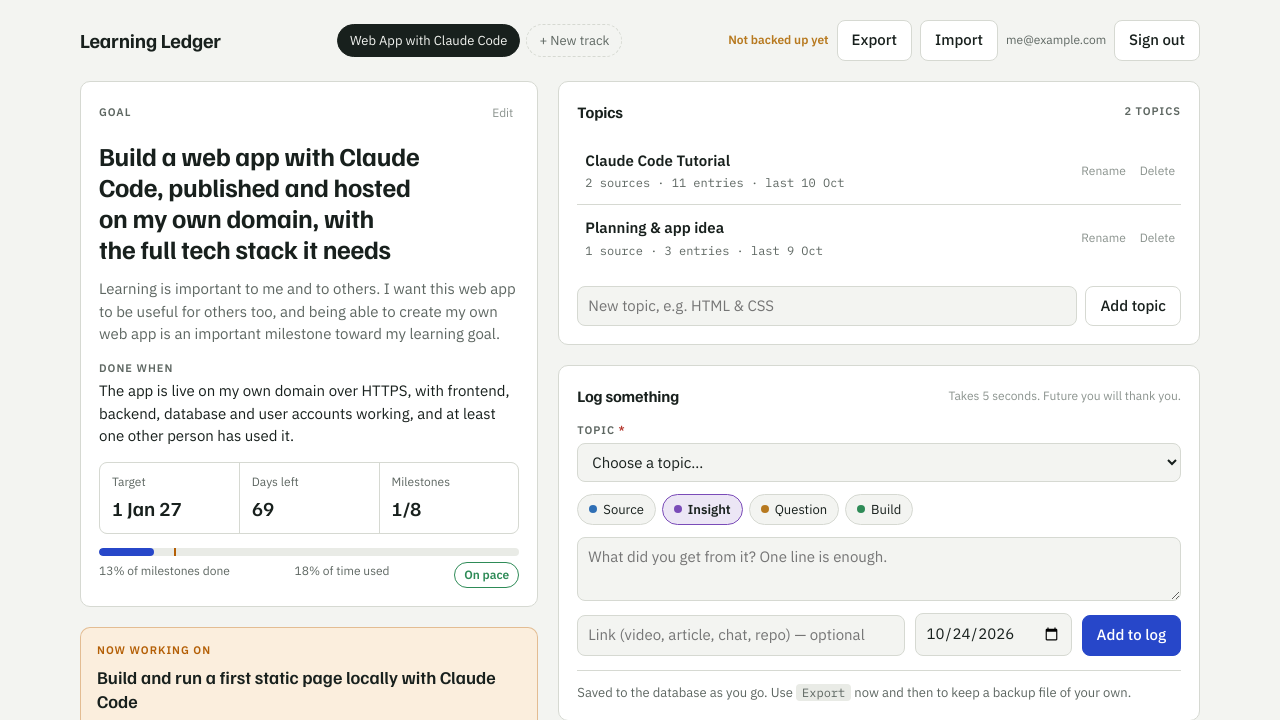
Learning Ledger app › logs an entry only once a topic is picked, and saves it
Expected: the heading "Build a web app with Claude Code" is shown, x1=99 y1=138 x2=419 y2=265
In the text box with id "addText": (879, 569) x1=577 y1=537 x2=1181 y2=601, type "Learnt about hooks"
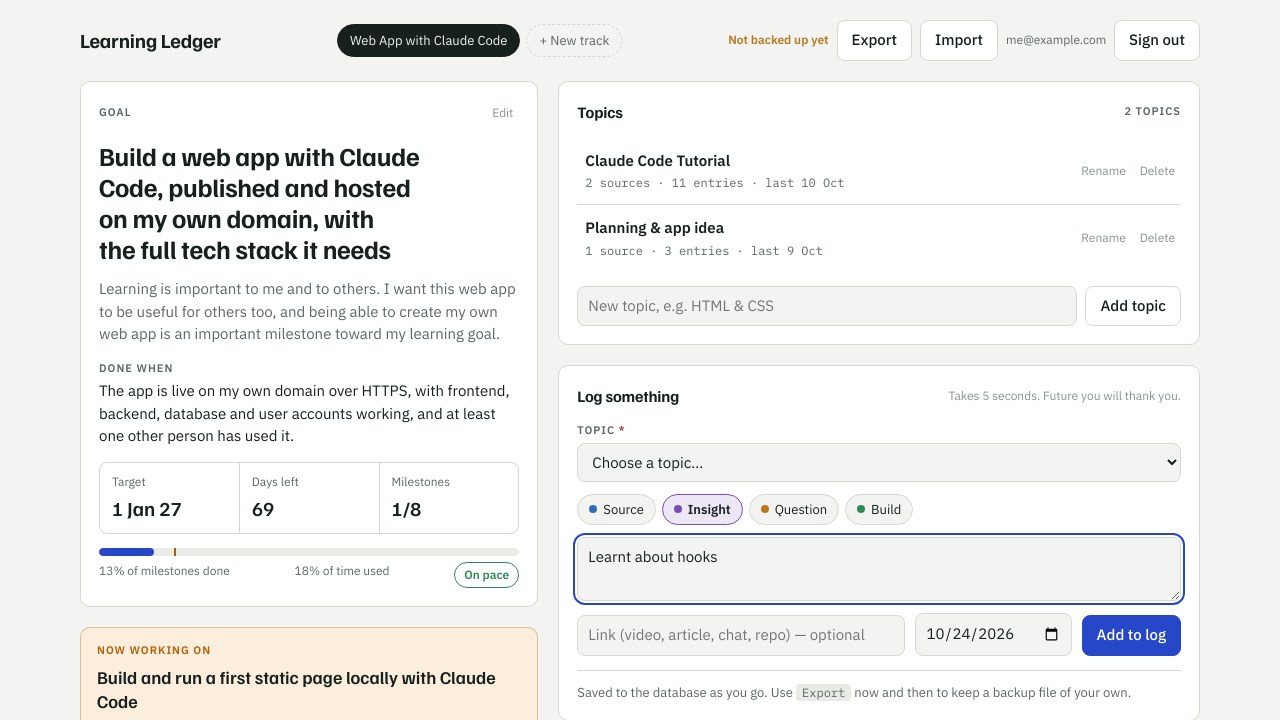
Click the button "Add to log": (1131, 635) x1=1082 y1=615 x2=1181 y2=656
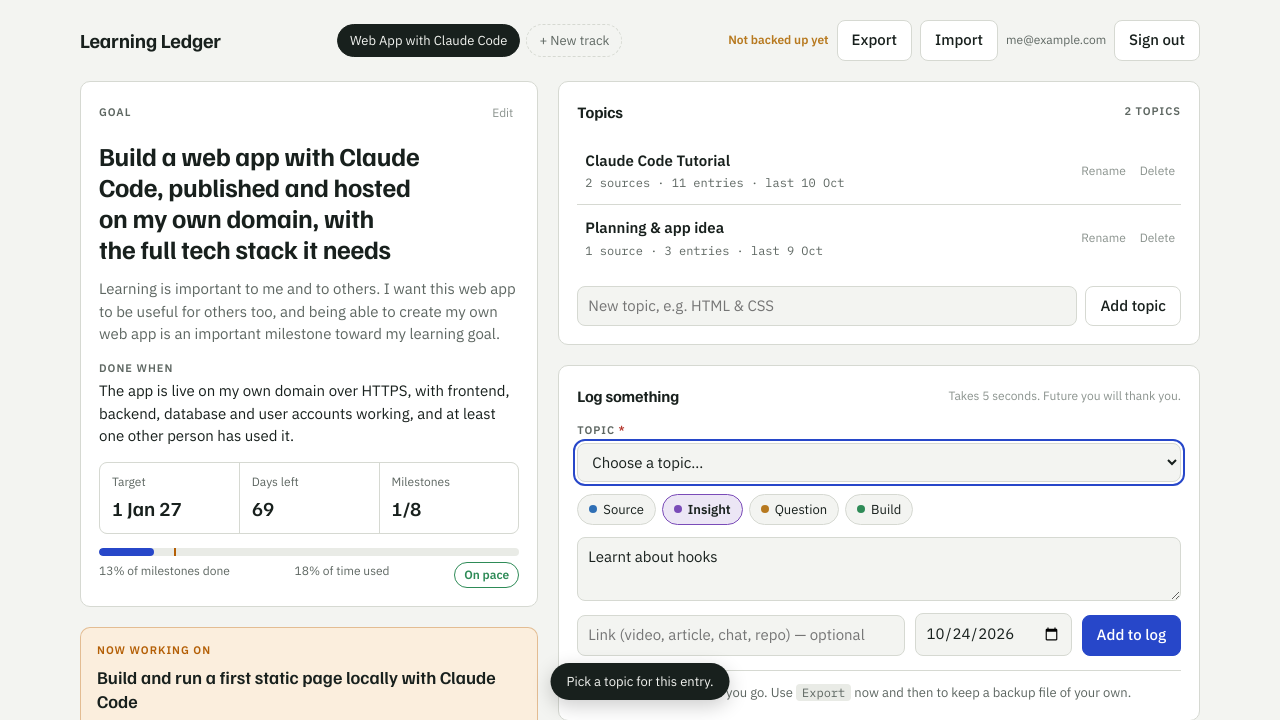
Now the message with id "toast" reads "Pick a topic for this entry.", box x1=566 y1=672 x2=714 y2=690
Select "Planning & app idea" in the dropdown with id "addTopic": (879, 462) x1=577 y1=442 x2=1181 y2=482
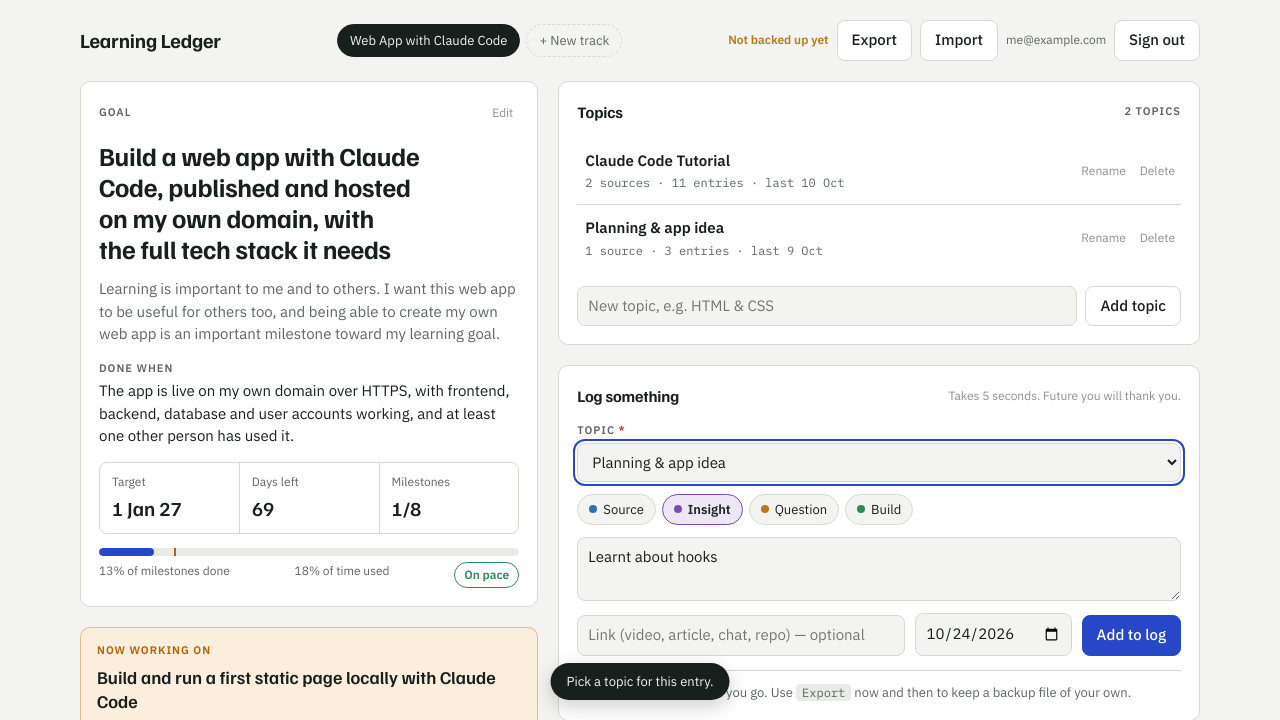
Click the button "Add to log": (1131, 635) x1=1082 y1=615 x2=1181 y2=656
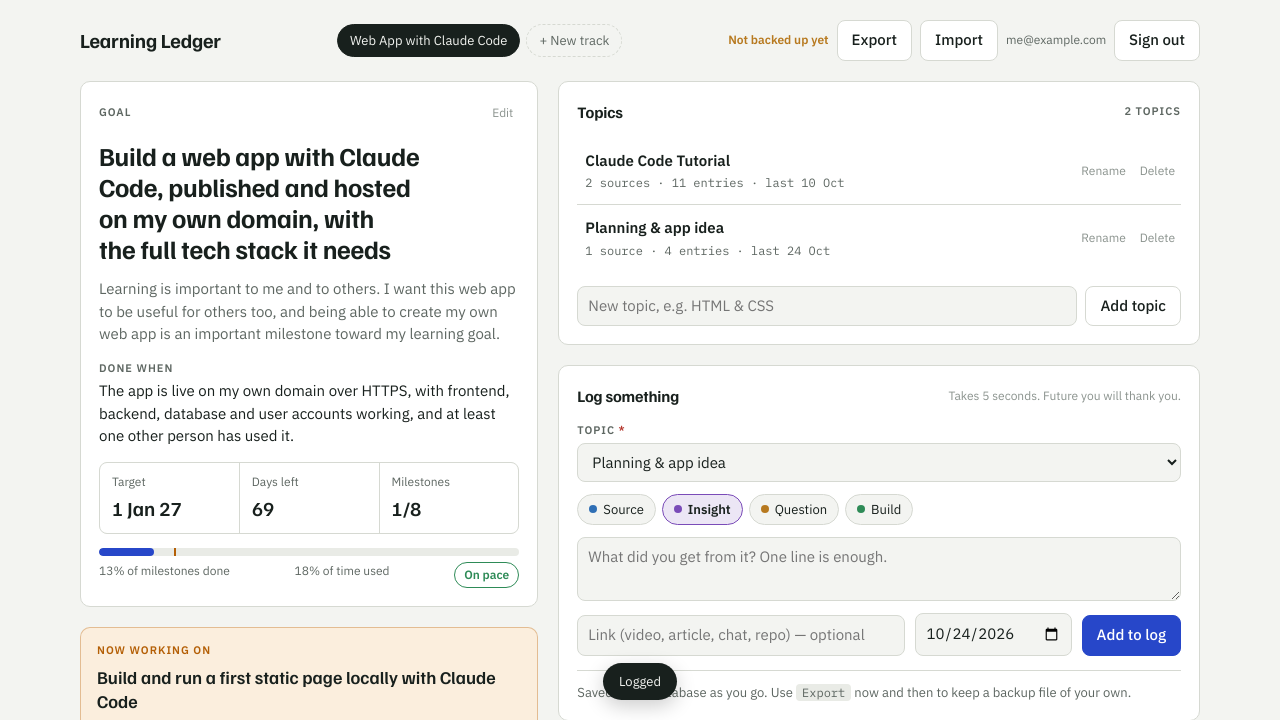
Now the message with id "toast" reads "Logged", box x1=619 y1=672 x2=661 y2=690
Now the text box with id "addText" is empty, box x1=577 y1=537 x2=1181 y2=601
